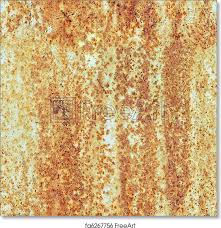rust: (1, 1, 217, 217)
